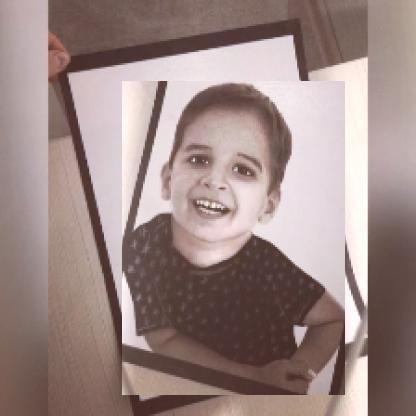child: (123, 82, 347, 397)
